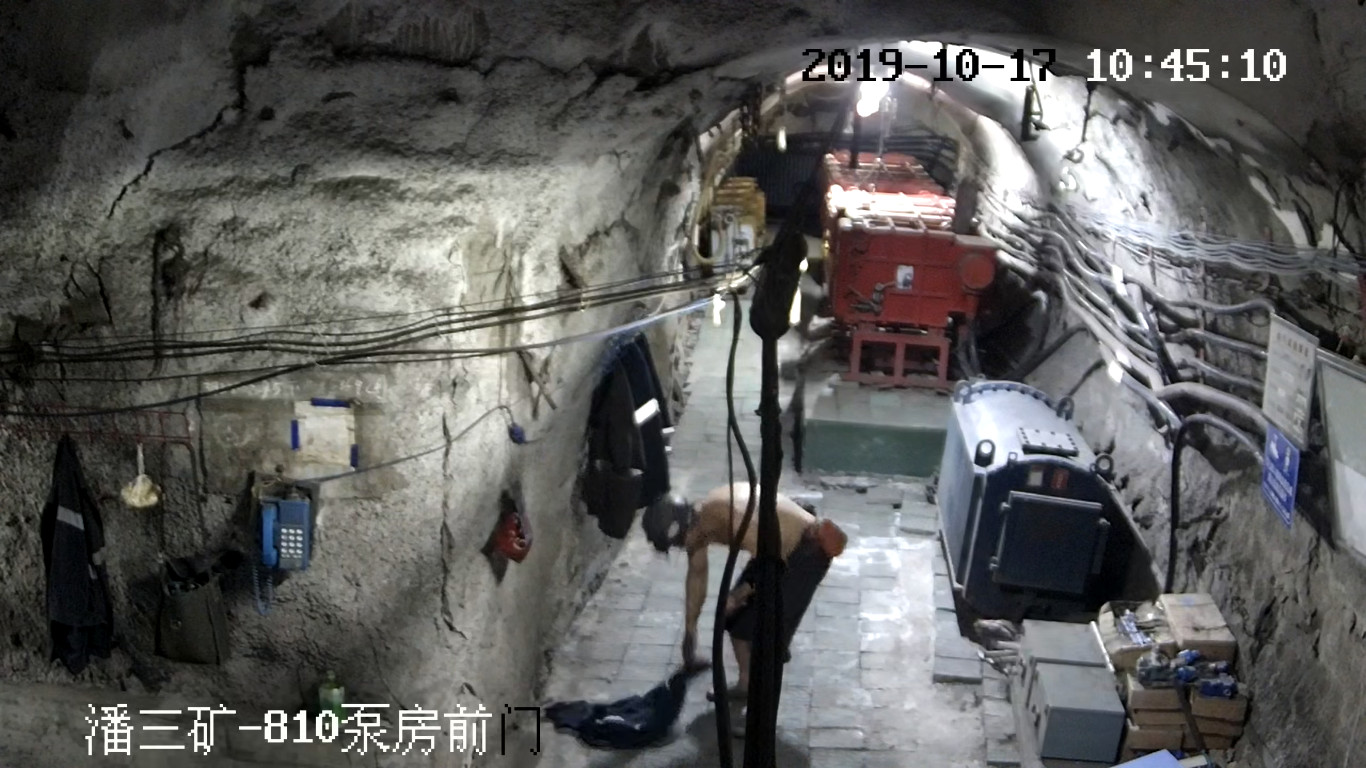helmet: (640, 494, 688, 552)
